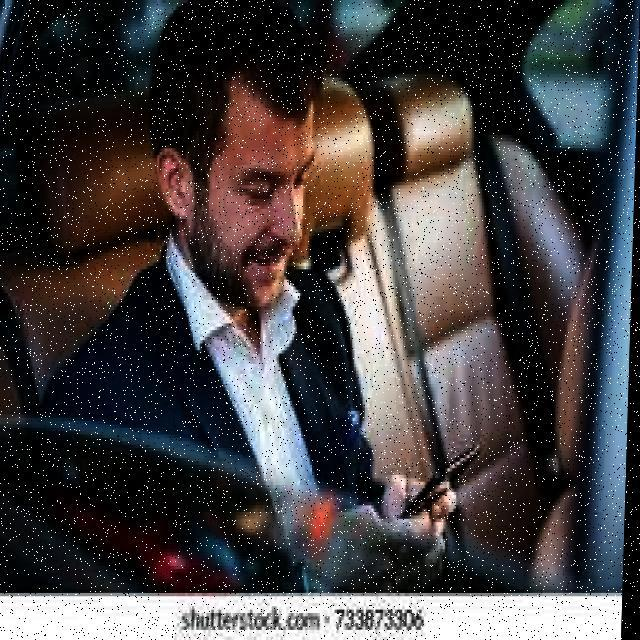noSeatbelt: (130, 276, 364, 530)
